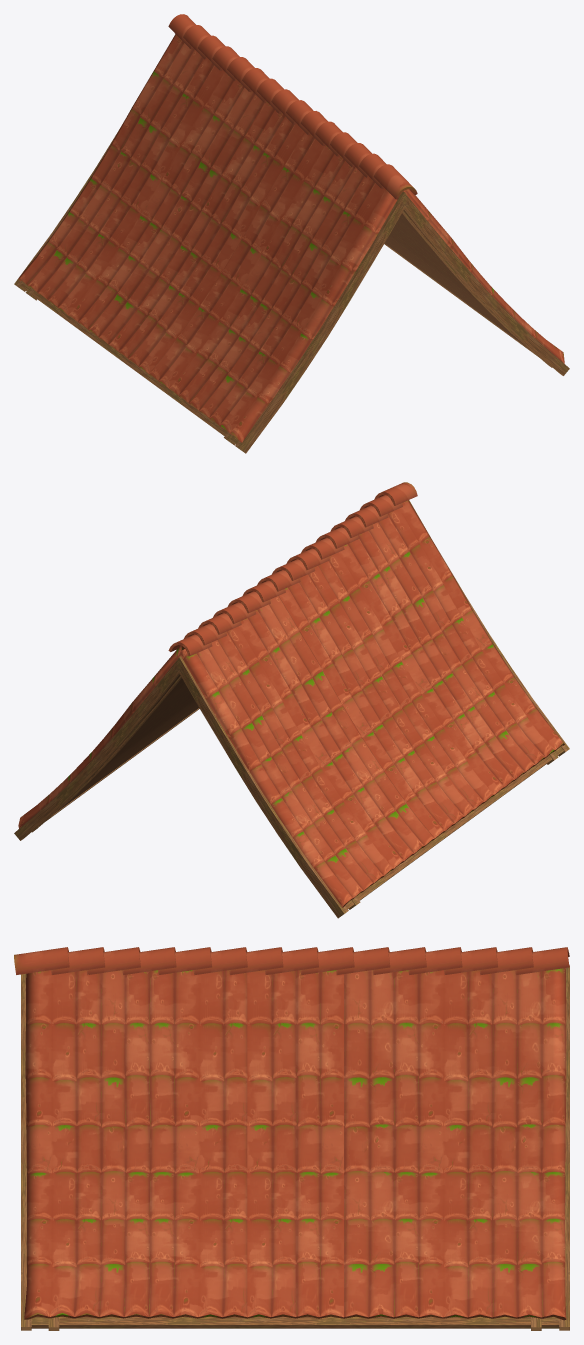
Rendered from Roof_RoundTiles_8x10.gltf.
3 renders of one model, top to bottom at view 1: azimuth 30°, elevation 25°; view 2: azimuth 150°, elevation 25°; view 3: azimuth 270°, elevation 25°, orthographic. The views are drawn at different scales.
Parts seen in each view (by area): view 1: Roof_RoundTiles_8x10; view 2: Roof_RoundTiles_8x10; view 3: Roof_RoundTiles_8x10.
Boxes of the visible parts, x1,y1,x2,y2 form: Roof_RoundTiles_8x10: (14, 14, 569, 453); Roof_RoundTiles_8x10: (14, 482, 569, 918); Roof_RoundTiles_8x10: (14, 947, 569, 1330).
Size of the model in its own units: 9.95 by 6.78 by 11.86.
2 materials, 2 textured.
